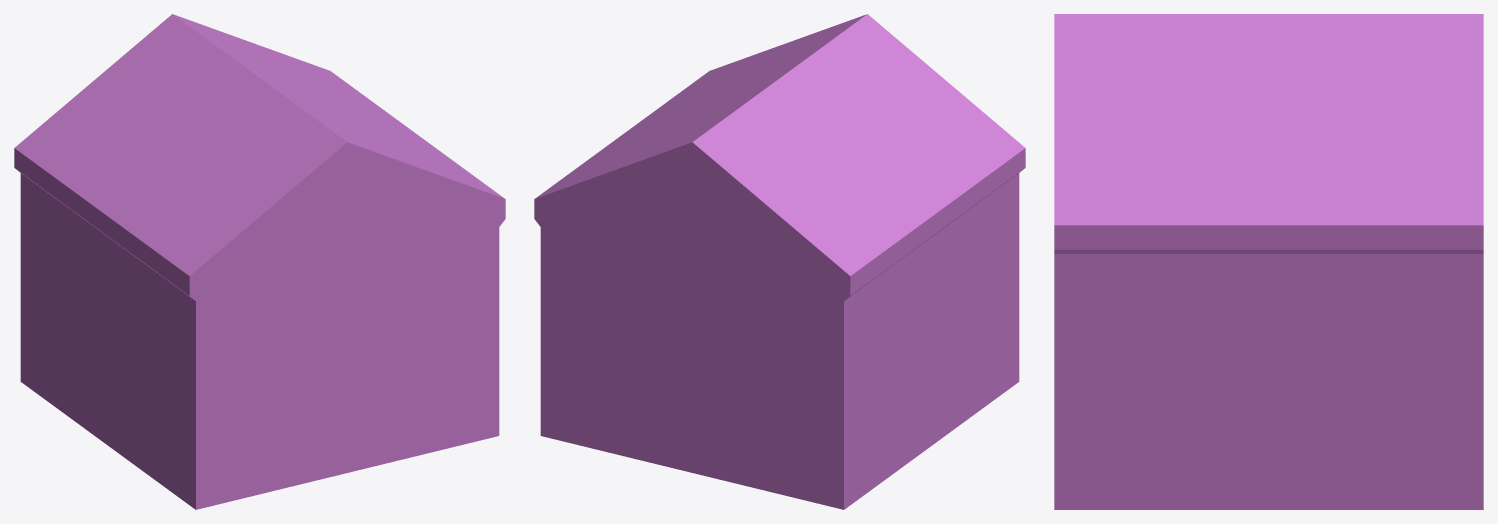
Rendered from ExempleMaison_1_200.glb.
3 renders of one model, left to right at view 1: azimuth 30°, elevation 25°; view 2: azimuth 150°, elevation 25°; view 3: azimuth 270°, elevation 25°, orthographic. The views are drawn at different scales.
Visible parts, largest first — view 1: Body; view 2: Body; view 3: Body.
Boxes of the visible parts, x1,y1,x2,y2 form: Body: [14, 14, 505, 509]; Body: [534, 14, 1025, 509]; Body: [1054, 14, 1483, 509].
Size of the model in its own units: 0.05 by 0.05 by 0.048.
